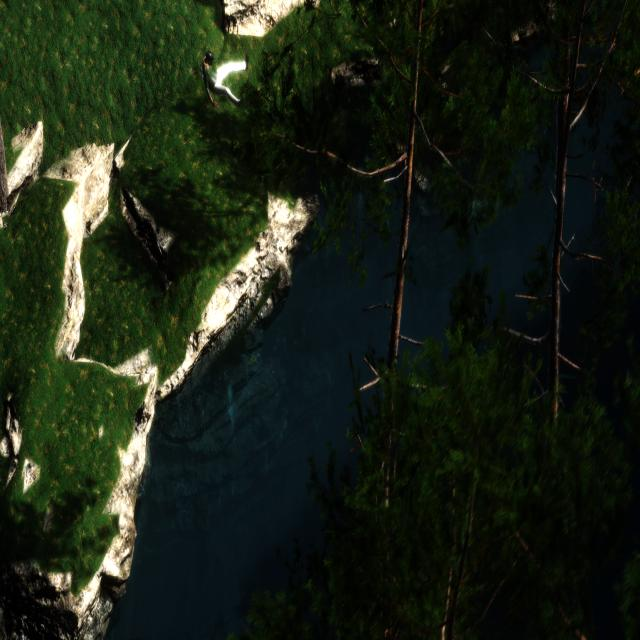Human: (202, 48, 252, 110)
